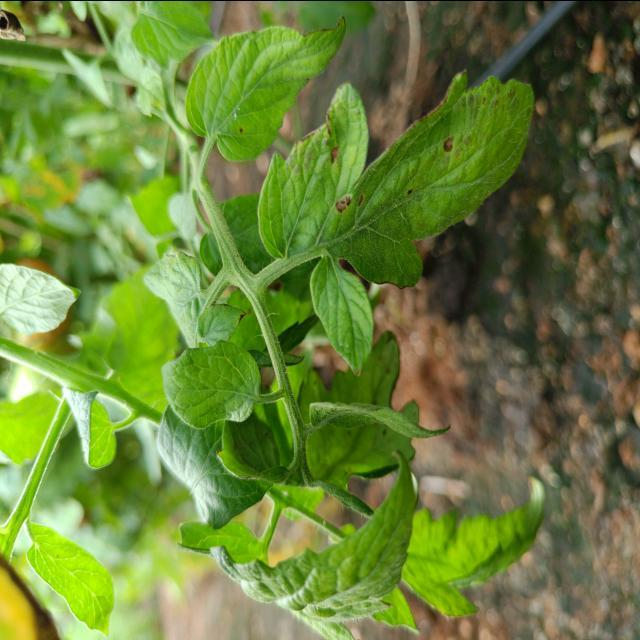Tomato mosaic virus leaf: (256, 64, 540, 294)
